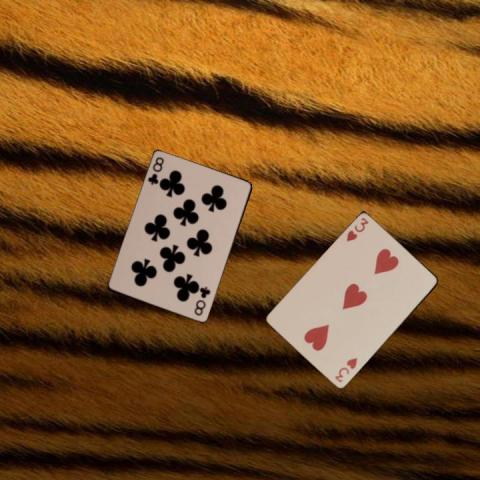3h: (332, 355, 359, 384), (343, 215, 370, 243)
8c: (191, 284, 212, 318), (145, 154, 165, 187)
